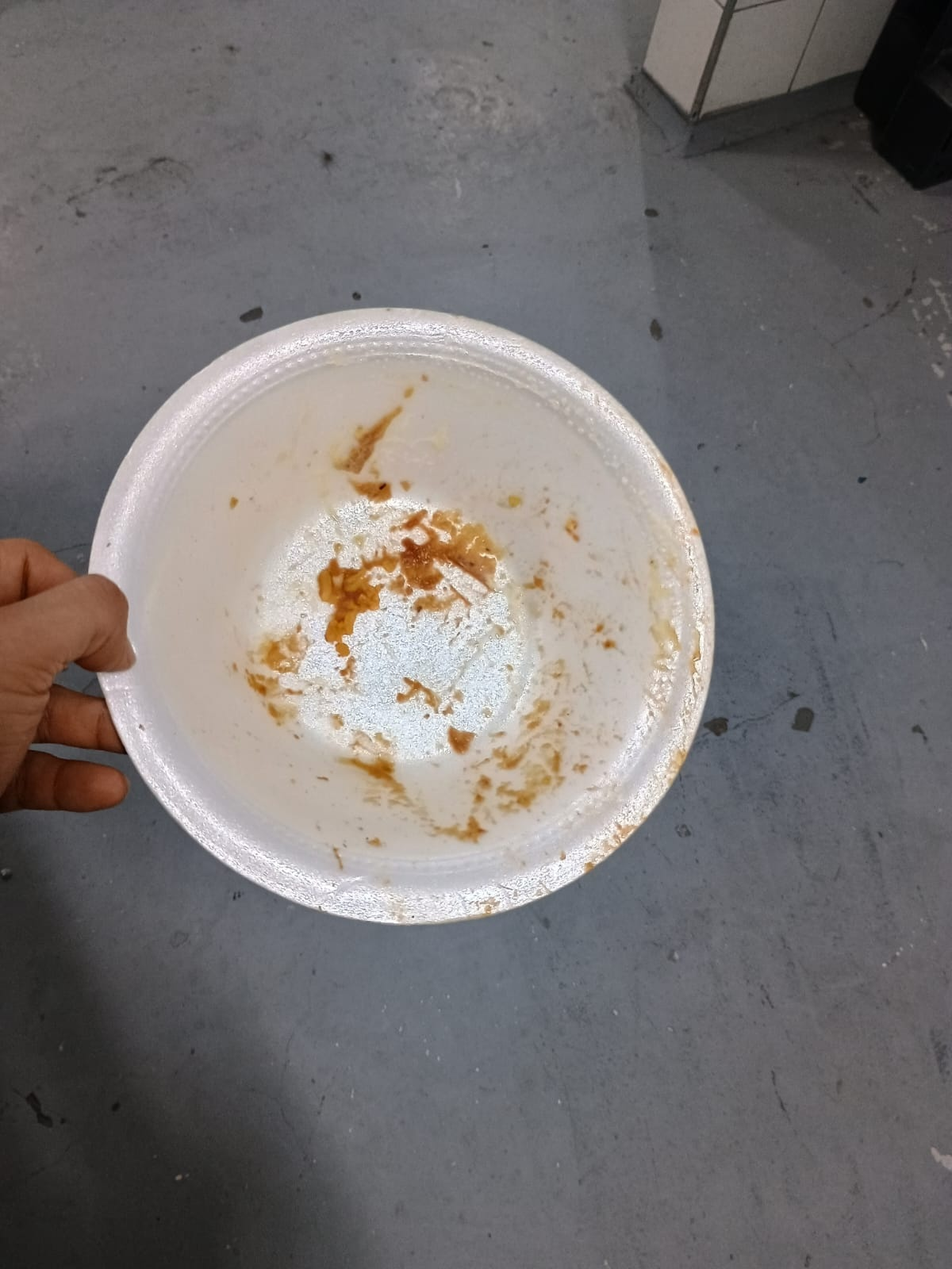Ordinario: (87, 306, 715, 929)
